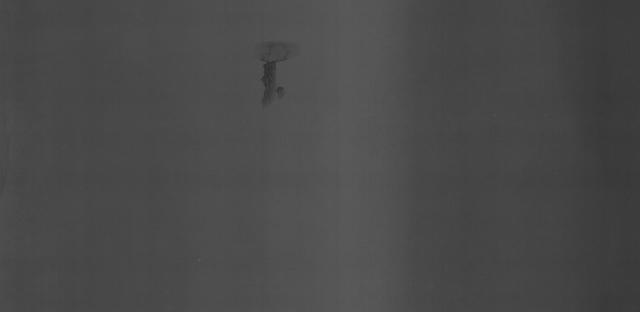water_spot: (249, 33, 312, 110)
